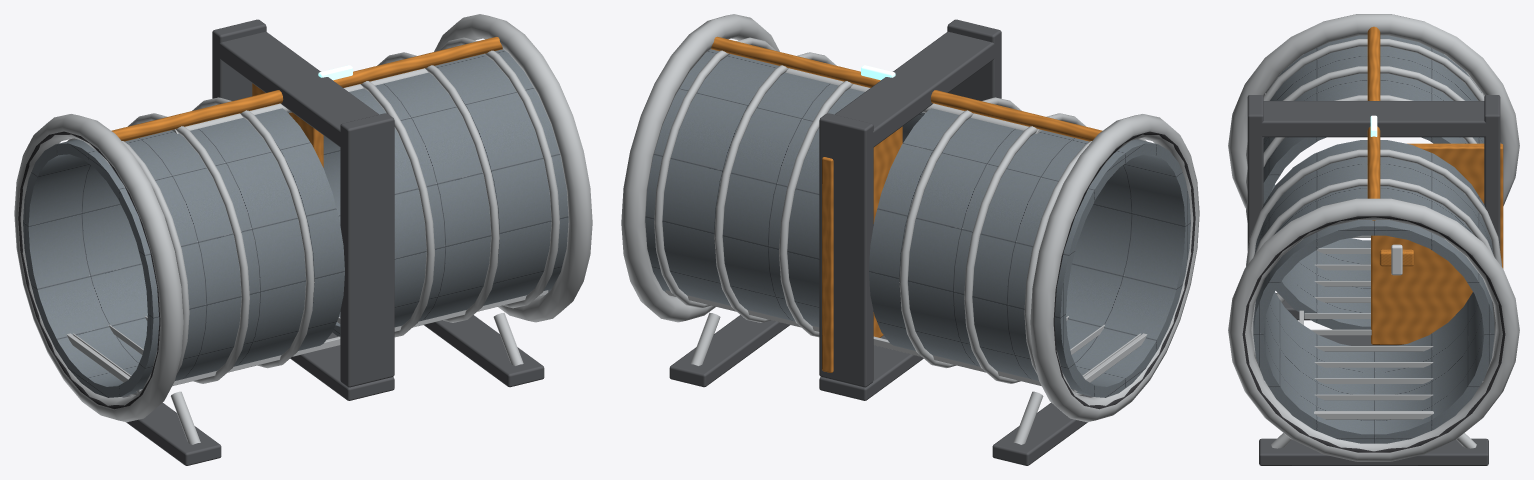
Rendered from arctic-station-fps-kit-corridor-door-bulkhead-0a8a13f8__28475.glb.
3 views of the same model, side by side, from view 1: azimuth 30°, elevation 25°; view 2: azimuth 150°, elevation 25°; view 3: azimuth 270°, elevation 25° (orthographic). The views are drawn at different scales.
Parts seen in each view (by area): view 1: corridor-door-bulkhead, bulkhead/cladOrange; view 2: corridor-door-bulkhead, bulkhead/cladOrange; view 3: corridor-door-bulkhead, bulkhead/cladOrange, bulkhead/steel.
Boxes of the visible parts, left/top/right/bottom form: corridor-door-bulkhead: left=14, top=14, right=592, bottom=465; bulkhead/cladOrange: left=252, top=83, right=323, bottom=167; corridor-door-bulkhead: left=621, top=14, right=1199, bottom=465; bulkhead/cladOrange: left=822, top=126, right=902, bottom=372; corridor-door-bulkhead: left=1228, top=14, right=1519, bottom=465; bulkhead/cladOrange: left=1371, top=143, right=1503, bottom=344; bulkhead/steel: left=1391, top=244, right=1402, bottom=275.
Size of the model in its own units: 4 by 2.7 by 2.54.
Materials: 7 (2 with a texture image).
